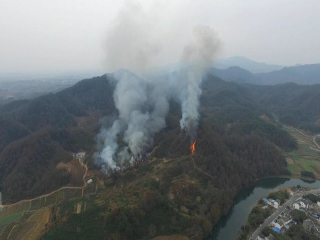smoke: (94, 5, 224, 176)
